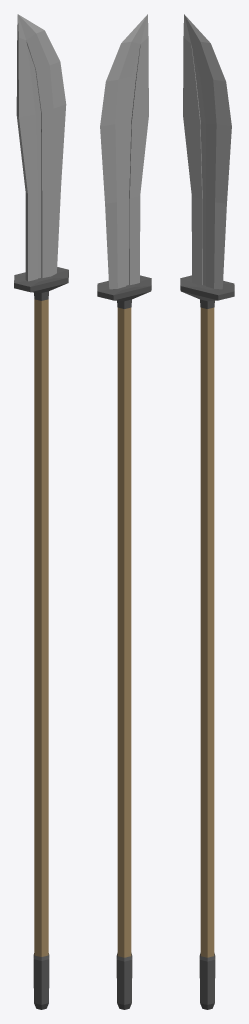
File: Glefe.fbx
3 views of the same model, side by side, from view 1: azimuth 30°, elevation 25°; view 2: azimuth 210°, elevation 25°; view 3: azimuth 330°, elevation 25° (orthographic).
Parts seen in each view (by area): view 1: Glefe; view 2: Glefe; view 3: Glefe.
Boxes of the visible parts, x1,y1,x2,y2 form: Glefe: (14, 14, 68, 1009); Glefe: (97, 14, 151, 1009); Glefe: (180, 14, 234, 1009).
Size of the model in its own units: 13.83 by 241 by 7.12.
